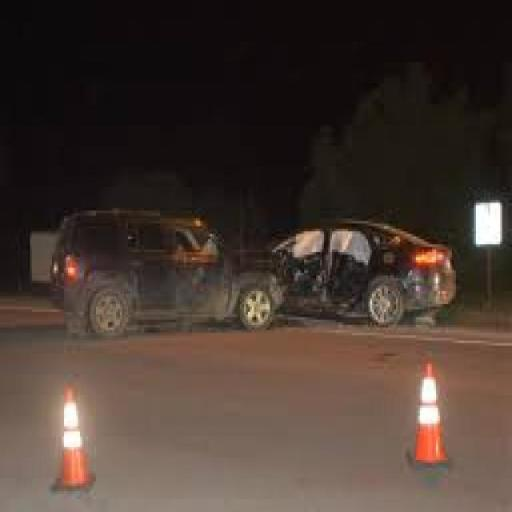小汽车撞小汽车: (57, 194, 453, 344)
